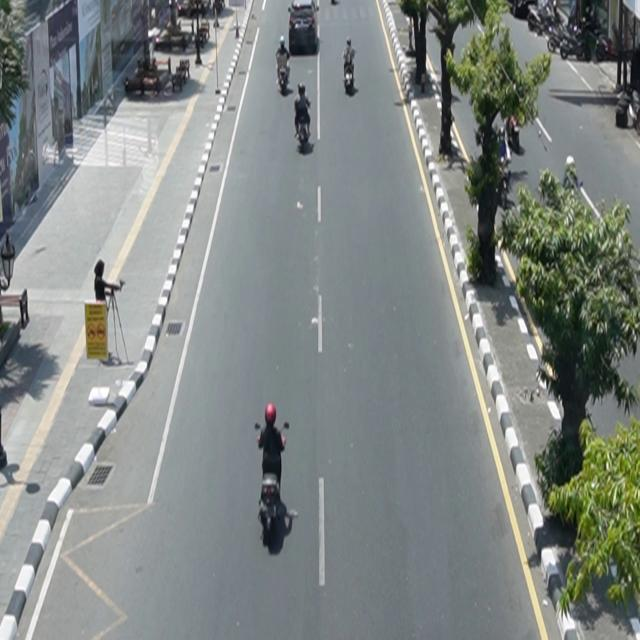car: (289, 1, 320, 56)
